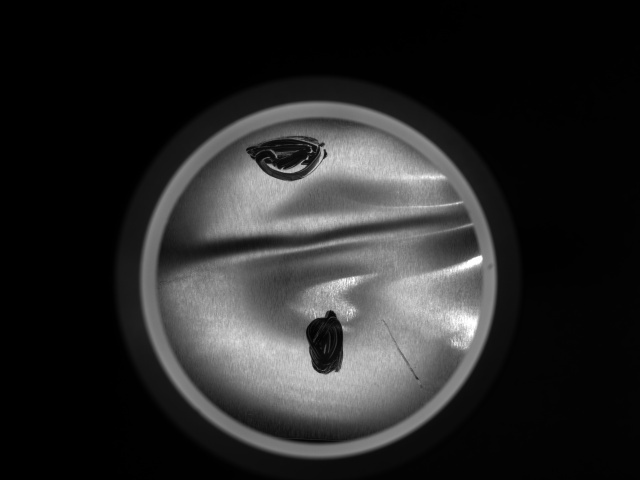ca_shang: (383, 314, 419, 384)
zang_wu: (239, 133, 338, 181), (301, 307, 347, 378)
zhe_zhou: (191, 151, 437, 402)
